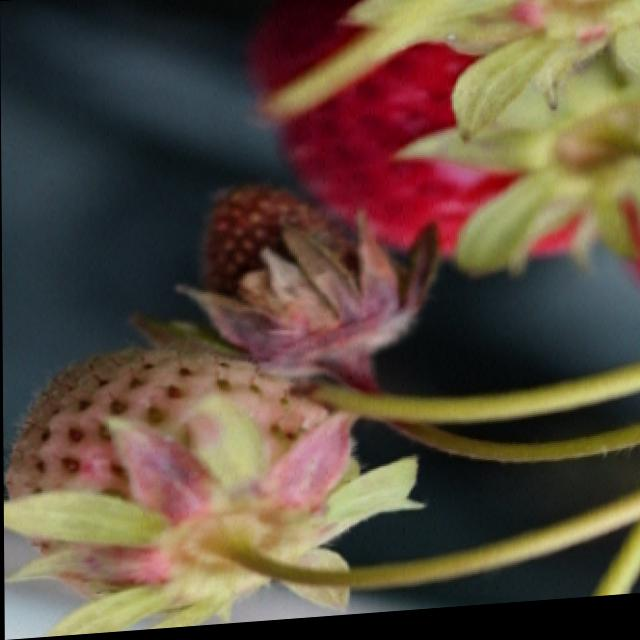Gray Mold: (173, 188, 440, 397)
